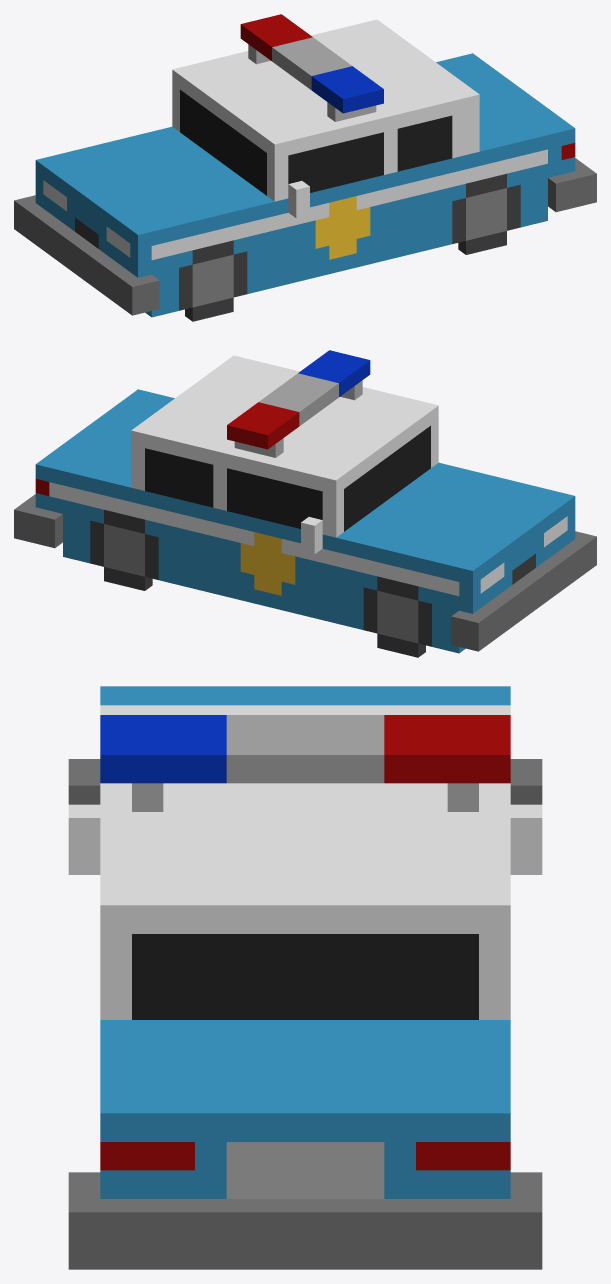
The model's file is police.glb.
3 renders of one model, top to bottom at view 1: azimuth 30°, elevation 25°; view 2: azimuth 150°, elevation 25°; view 3: azimuth 270°, elevation 25°, orthographic. The views are drawn at different scales.
Visible parts, largest first — view 1: _0; view 2: _0; view 3: _0.
Boxes of the visible parts, x1=… form: _0: x1=14, y1=14, x2=596, y2=321; _0: x1=14, y1=350, x2=596, y2=657; _0: x1=68, y1=686, x2=542, y2=1269.
Bounding box in the file's own units: 0.051 × 0.0195 × 0.0225.
